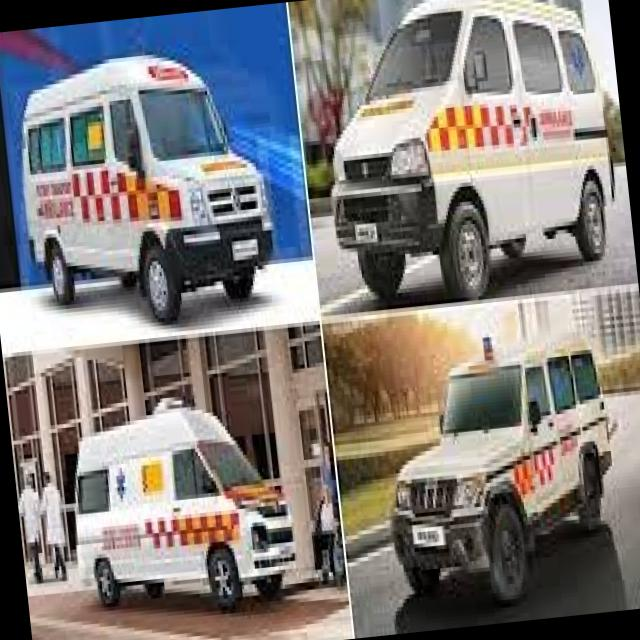ambulance: (304, 0, 623, 293), (2, 43, 296, 340), (363, 311, 640, 610), (50, 397, 306, 626)
